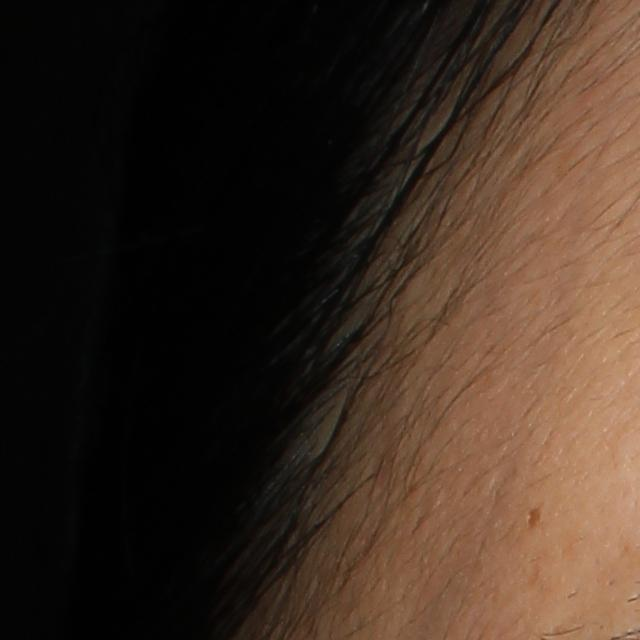melasma: (527, 503, 544, 530)
